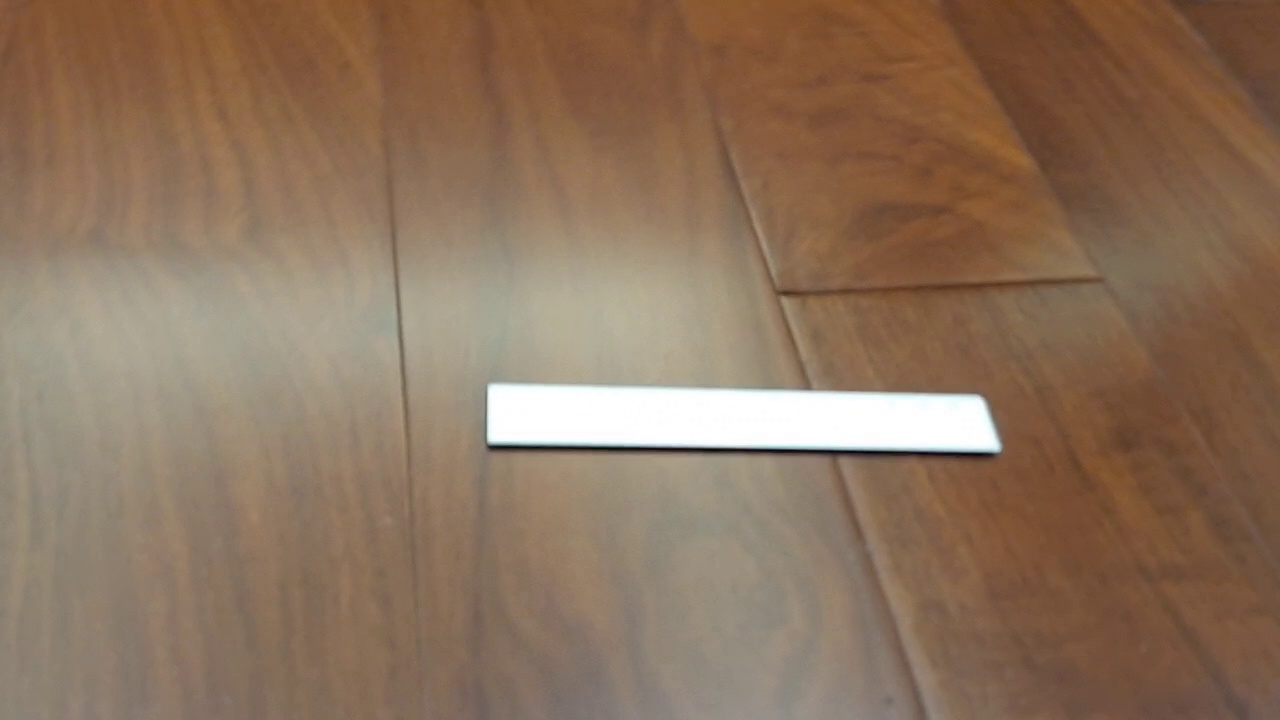ruler: (485, 381, 1006, 456)
